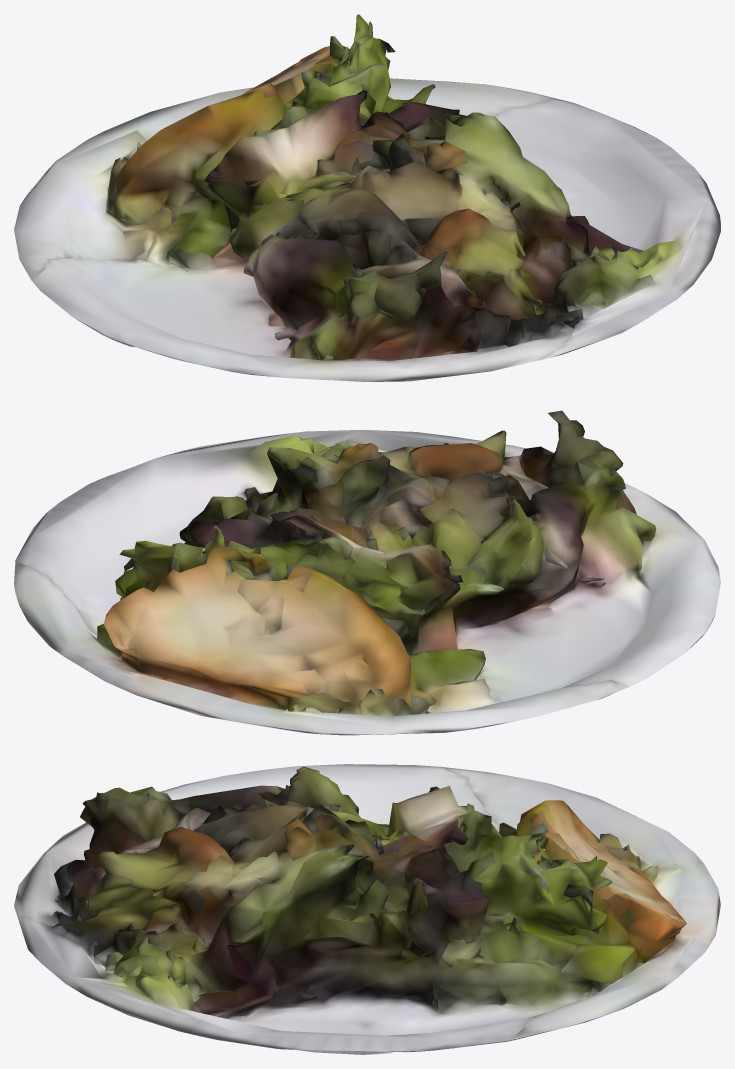
File: ProSport_Harness_to_Booster_Seat-medium.glb
The picture shows the model from 3 angles, top to bottom: view 1: azimuth 30°, elevation 25°; view 2: azimuth 150°, elevation 25°; view 3: azimuth 270°, elevation 25°; orthographic projection.
Parts seen in each view (by area): view 1: ProSport_Harness_to_Booster_Seat; view 2: ProSport_Harness_to_Booster_Seat; view 3: ProSport_Harness_to_Booster_Seat.
Boxes of the visible parts, x1=… form: ProSport_Harness_to_Booster_Seat: x1=14, y1=14, x2=720, y2=381; ProSport_Harness_to_Booster_Seat: x1=14, y1=410, x2=720, y2=735; ProSport_Harness_to_Booster_Seat: x1=14, y1=764, x2=720, y2=1054.
Bounding box in the file's own units: 0.2267 × 0.0543 × 0.227.
Materials: 1 (1 with a texture image).
